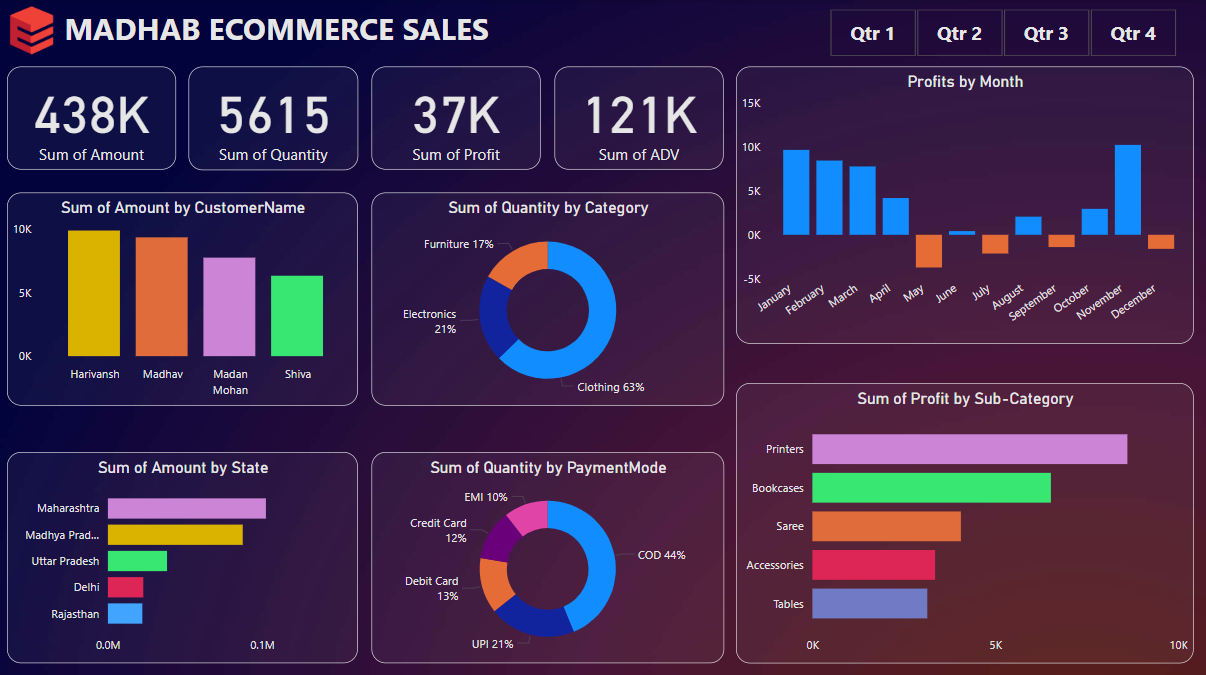

This screenshot's page, from the dashboard's own definition file:
{"tool":"powerbi","page":{"name":"Page 1","canvas":[1280,720],"ordinal":0},"visuals":[{"type":"textbox","box":[65.2,2.8,488.8,57.2],"z":0},{"type":"columnChart","title":"Profits by Month","fields":{"Category":["Orders.Order Date.Variation.Date Hierarchy.Month"],"Y":["Details.Profit"]},"box":[782.6,71.6,485.1,294.3],"z":1000},{"type":"barChart","fields":{"Category":["Details.Sub-Category"],"Y":["Details.Profit"]},"box":[782.6,407.2,485.1,297.4],"z":2000},{"type":"donutChart","fields":{"Category":["Details.Category"],"Y":["Details.Quantity"]},"box":[396.1,205.2,373.8,225.9],"z":3000},{"type":"donutChart","fields":{"Category":["Details.PaymentMode"],"Y":["Details.Quantity"]},"box":[396.1,480.4,373.8,224.3],"z":4000},{"type":"card","fields":{"Values":["Details.Amount"]},"box":[9.4,71.8,179.5,109.6],"z":5000},{"type":"card","fields":{"Values":["Details.Profit"]},"box":[396.9,71.8,179.5,109.6],"z":6000},{"type":"card","fields":{"Values":["Details.Quantity"]},"box":[202,71.6,179.7,109.8],"z":7000},{"type":"card","fields":{"Values":["Details.ADV"]},"box":[589.6,71.8,179.5,109.6],"z":8000},{"type":"barChart","fields":{"Y":["Details.Amount"],"Category":["Orders.State"]},"box":[9.5,480.4,372.2,224.3],"z":9000},{"type":"columnChart","fields":{"Category":["Orders.CustomerName"],"Y":["Details.Amount"]},"box":[9.5,205.2,372.2,225.9],"z":10000},{"type":"slicer","fields":{"Values":["Orders.Order Date.Variation.Date Hierarchy.Quarter"]},"box":[863.7,11.1,404,49.3],"z":11000},{"type":"image","box":[0,0,72,66],"z":12000}]}

Visuals, with their boxes in screenshot pixels (x1, y1, x2, y2), scaled from the page's 1280x720 canvas onto the 1206x675 screenshot:
textbox: (61,3,522,56)
"Profits by Month" columnChart: (737,67,1194,343)
barChart - Details.Sub-Category x Details.Profit: (737,382,1194,661)
donutChart - Details.Category x Details.Quantity: (373,192,725,404)
donutChart - Details.PaymentMode x Details.Quantity: (373,450,725,661)
card - Details.Amount: (9,67,178,170)
card - Details.Profit: (374,67,543,170)
card - Details.Quantity: (190,67,360,170)
card - Details.ADV: (556,67,725,170)
barChart - Details.Amount x Orders.State: (9,450,360,661)
columnChart - Orders.CustomerName x Details.Amount: (9,192,360,404)
slicer - Orders.Order Date.Variation.Date Hierarchy.Quarter: (814,10,1194,57)
image: (0,0,68,62)
